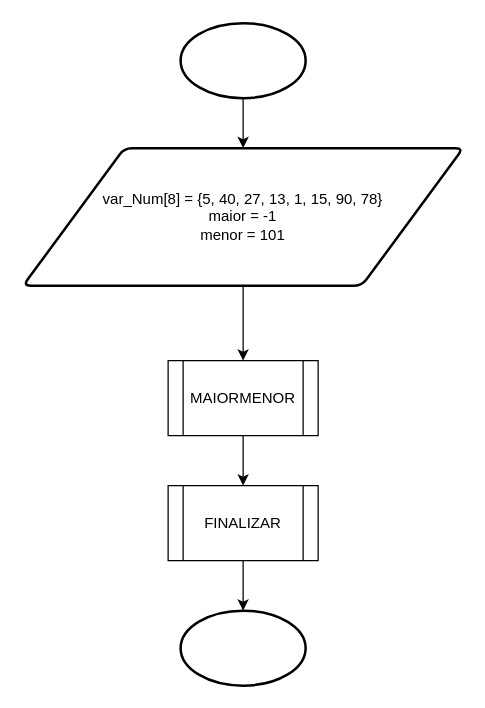
Some shapes in this 485 by 708 pixel diagram are drawn without their labels. Here are the shapes that lost their labels. From the top down, the centre of each, then its label:
At (x=242, y=60): "INICIO".
At (x=242, y=647): "FIM".
